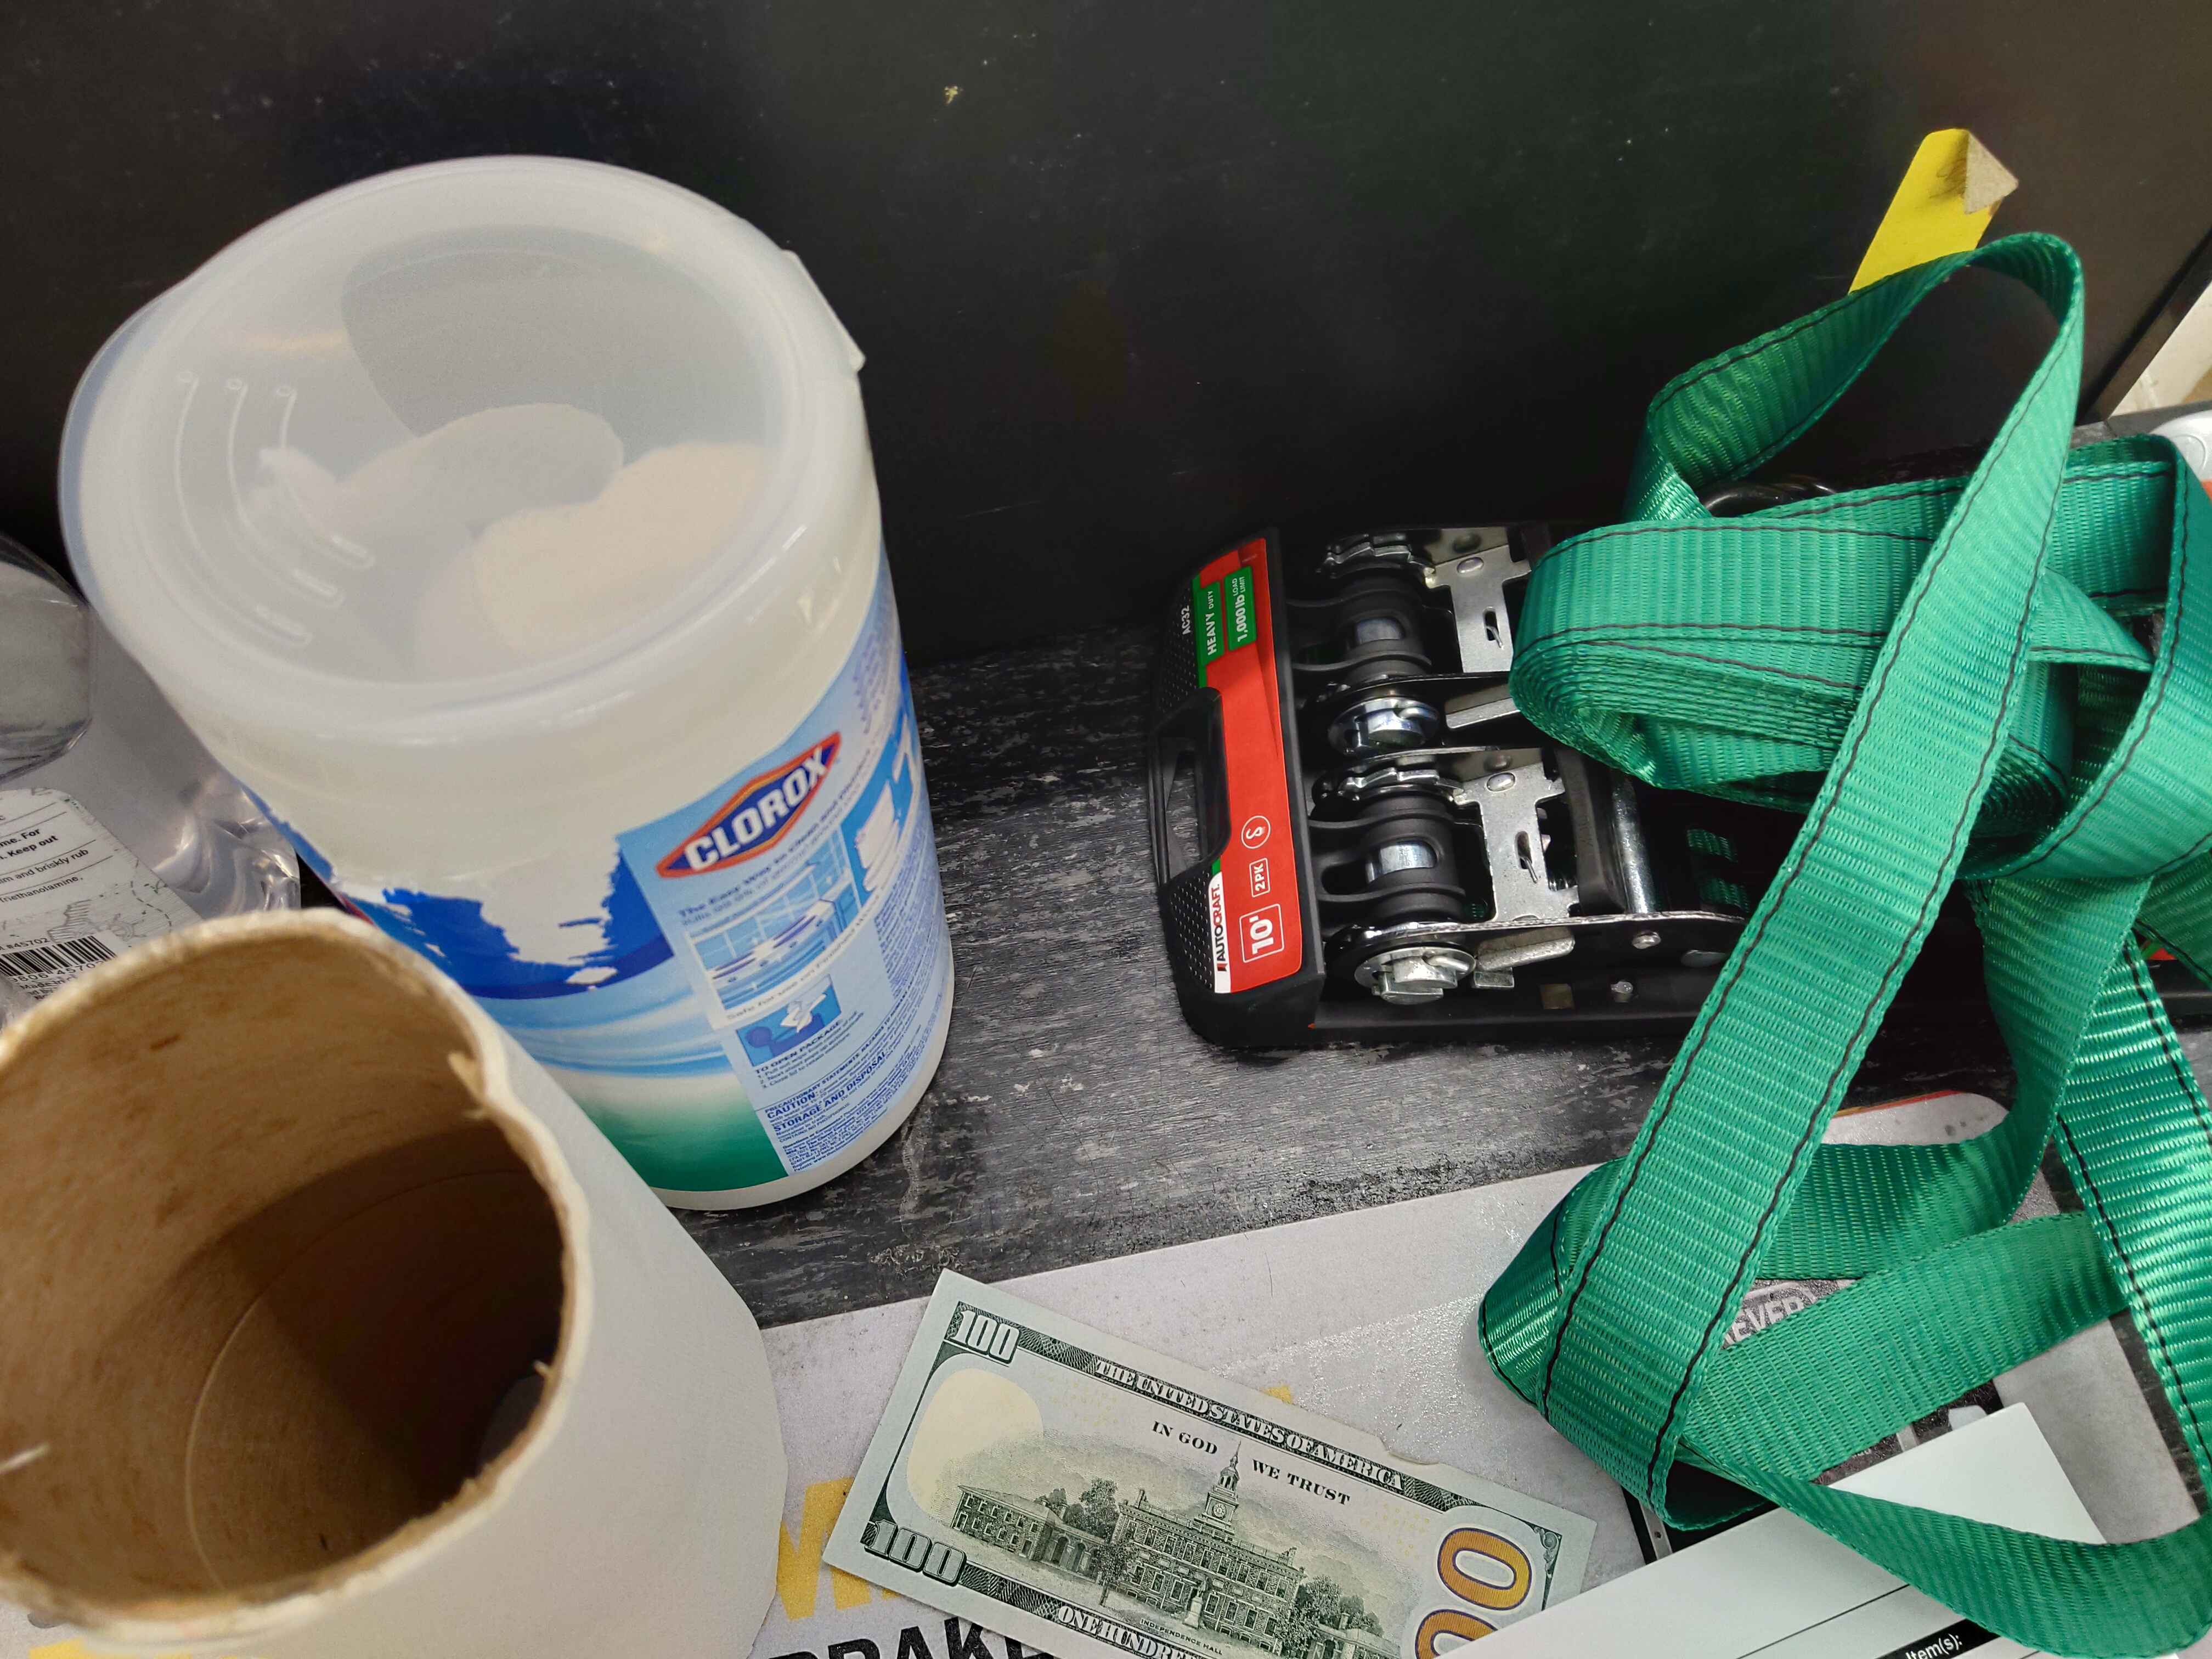HundredBill: (819, 1269, 1599, 1656)
